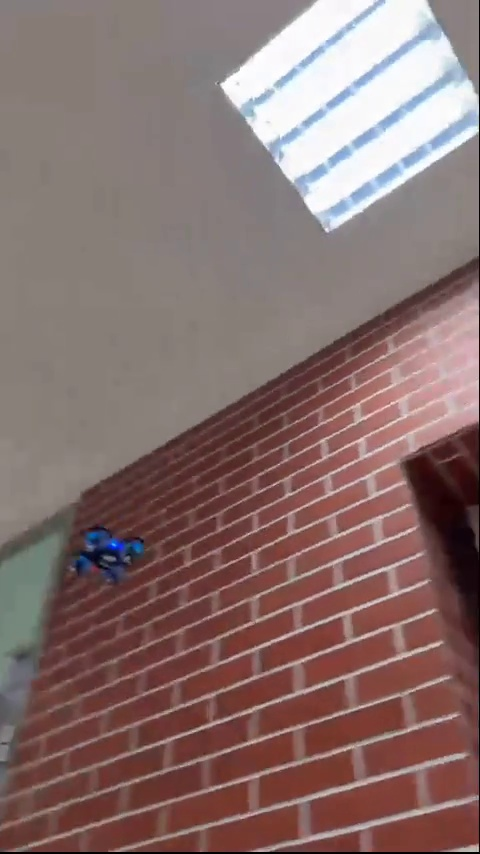drone: (65, 527, 146, 587)
